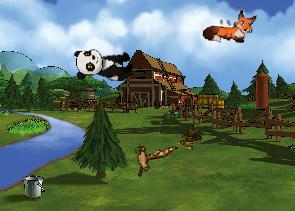eagle: (122, 127, 178, 186)
fox: (202, 6, 257, 46)
panda: (74, 48, 134, 81)
